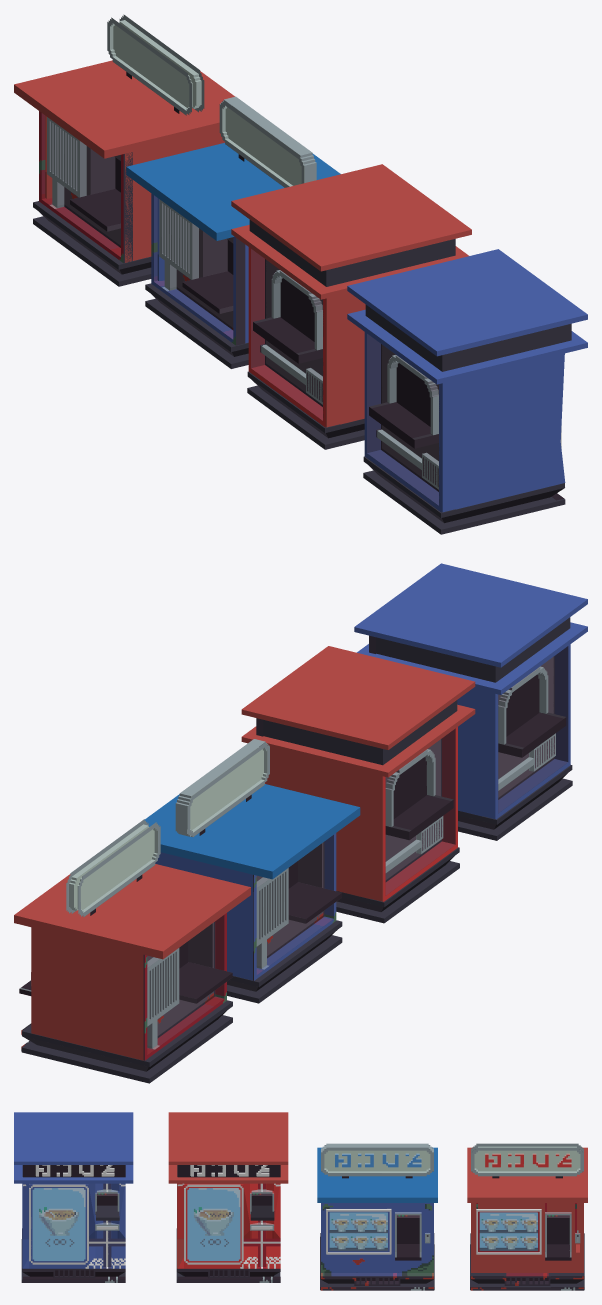
File: Rotation tolol.fbx
The picture shows the model from 3 angles, top to bottom: view 1: azimuth 30°, elevation 25°; view 2: azimuth 150°, elevation 25°; view 3: azimuth 270°, elevation 25°; orthographic projection. The views are drawn at different scales.
Parts seen in each view (by area): view 1: VendingMachineBiruUpgrade, VendingMachineMerahUpgrade, VendingJelekeMerah, VendingJelekBiru; view 2: VendingJelekeMerah, VendingMachineMerahUpgrade, VendingMachineBiruUpgrade, VendingJelekBiru; view 3: VendingMachineMerahUpgrade, VendingMachineBiruUpgrade, VendingJelekeMerah, VendingJelekBiru.
Part boxes in pixels (x1=…): VendingMachineBiruUpgrade: x1=347, y1=249, x2=587, y2=534; VendingMachineMerahUpgrade: x1=231, y1=164, x2=471, y2=449; VendingJelekeMerah: x1=14, y1=14, x2=234, y2=286; VendingJelekBiru: x1=126, y1=96, x2=340, y2=368; VendingJelekeMerah: x1=14, y1=819, x2=250, y2=1083; VendingMachineMerahUpgrade: x1=241, y1=646, x2=475, y2=923; VendingMachineBiruUpgrade: x1=354, y1=563, x2=587, y2=840; VendingJelekBiru: x1=144, y1=739, x2=360, y2=1003; VendingMachineMerahUpgrade: x1=168, y1=1112, x2=288, y2=1282; VendingMachineBiruUpgrade: x1=14, y1=1112, x2=133, y2=1282; VendingJelekeMerah: x1=467, y1=1143, x2=587, y2=1290; VendingJelekBiru: x1=317, y1=1143, x2=437, y2=1290.
Size of the model in its own units: 318 by 349 by 1416.
Materials: 16 (8 with a texture image).
